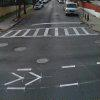Crosswalk: (4, 23, 91, 45)
